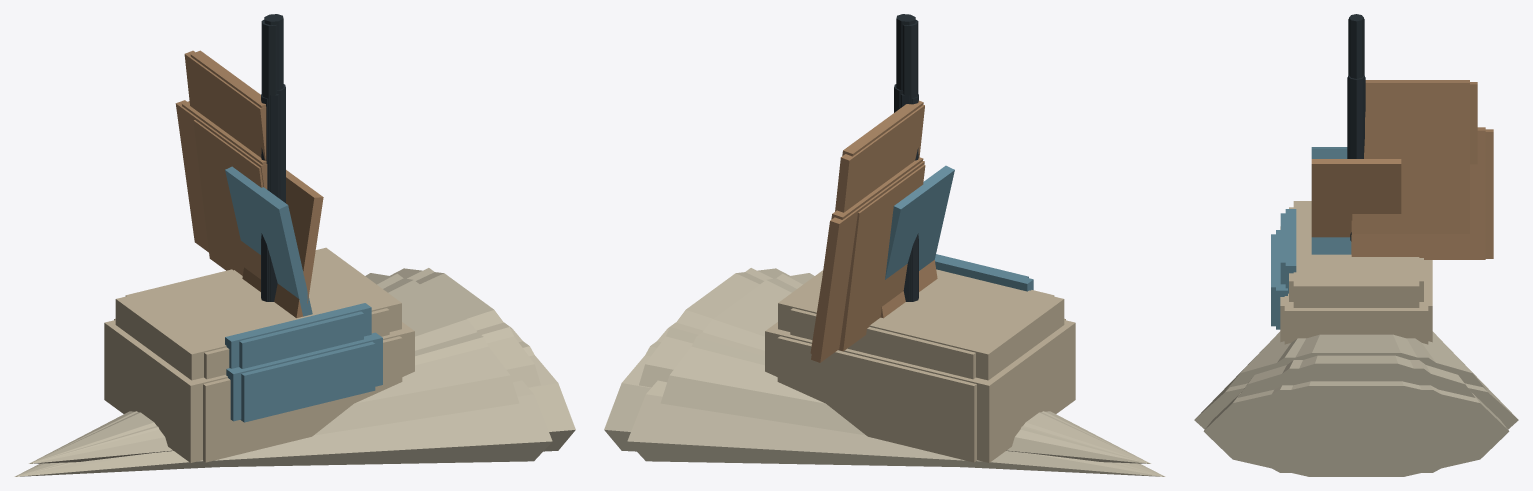
File: boats.5d135f996424.glb
3 renders of one model, left to right at view 1: azimuth 30°, elevation 25°; view 2: azimuth 150°, elevation 25°; view 3: azimuth 270°, elevation 25°, orthographic. The views are drawn at different scales.
Visible parts, largest first — view 1: lake-dinghy__near, rowboat__near, sailboat-small__near, sailboat-cabin__near, utility-boat__near, rowboat__mid, sailboat-small__mid, lake-dinghy__far; view 2: lake-dinghy__near, rowboat__near, sailboat-small__near, sailboat-cabin__near, utility-boat__near, rowboat__mid, sailboat-small__mid, rowboat__far, lake-dinghy__far; view 3: sailboat-cabin__near, sailboat-small__near, lake-dinghy__near, rowboat__near, sailboat-cabin__mid, sailboat-small__mid, rowboat__mid, lake-dinghy__mid.
Part boxes in pixels (x1,y1,x2,y2): lake-dinghy__near: (114,94,552,467); rowboat__near: (125,20,519,435); sailboat-small__near: (29,14,540,463); sailboat-cabin__near: (14,84,575,476); utility-boat__near: (193,94,268,301); rowboat__mid: (231,198,488,365); sailboat-small__mid: (32,268,513,462); lake-dinghy__far: (242,253,314,317); lake-dinghy__near: (627,94,1065,467); rowboat__near: (660,20,1054,435); sailboat-small__near: (639,14,1150,463); sailboat-cabin__near: (604,84,1165,476); utility-boat__near: (838,94,925,351); rowboat__mid: (691,250,936,365); sailboat-small__mid: (666,268,1147,462); rowboat__far: (887,221,943,270); lake-dinghy__far: (882,261,937,317); sailboat-cabin__near: (1204,75,1509,476); sailboat-small__near: (1237,14,1475,397); lake-dinghy__near: (1194,77,1518,429); rowboat__near: (1226,19,1486,390); sailboat-cabin__mid: (1205,385,1508,472); sailboat-small__mid: (1255,360,1457,393); rowboat__mid: (1269,237,1447,371); lake-dinghy__mid: (1195,190,1517,426).
Size of the model in its own units: 1 by 0.9207 by 0.7232.
